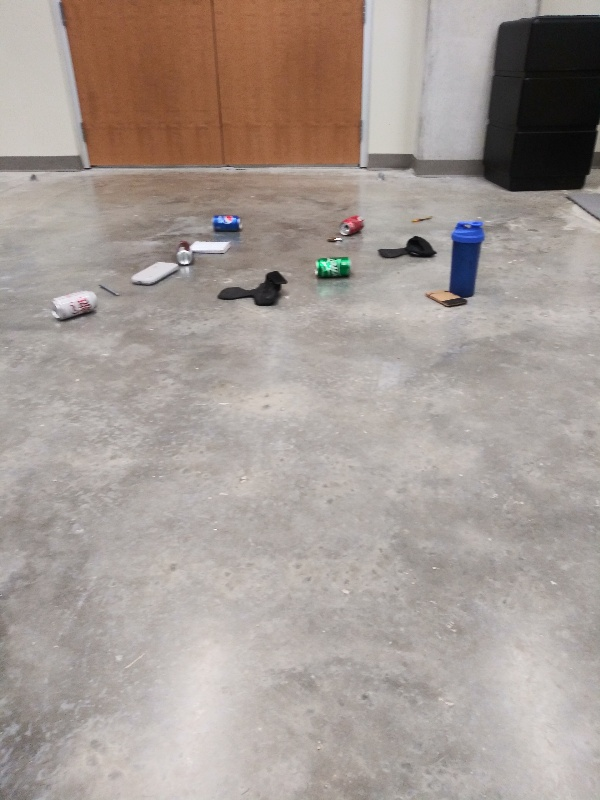can: (48, 290, 102, 327), (313, 254, 354, 281), (337, 213, 368, 238), (212, 214, 247, 235), (174, 239, 196, 267)
